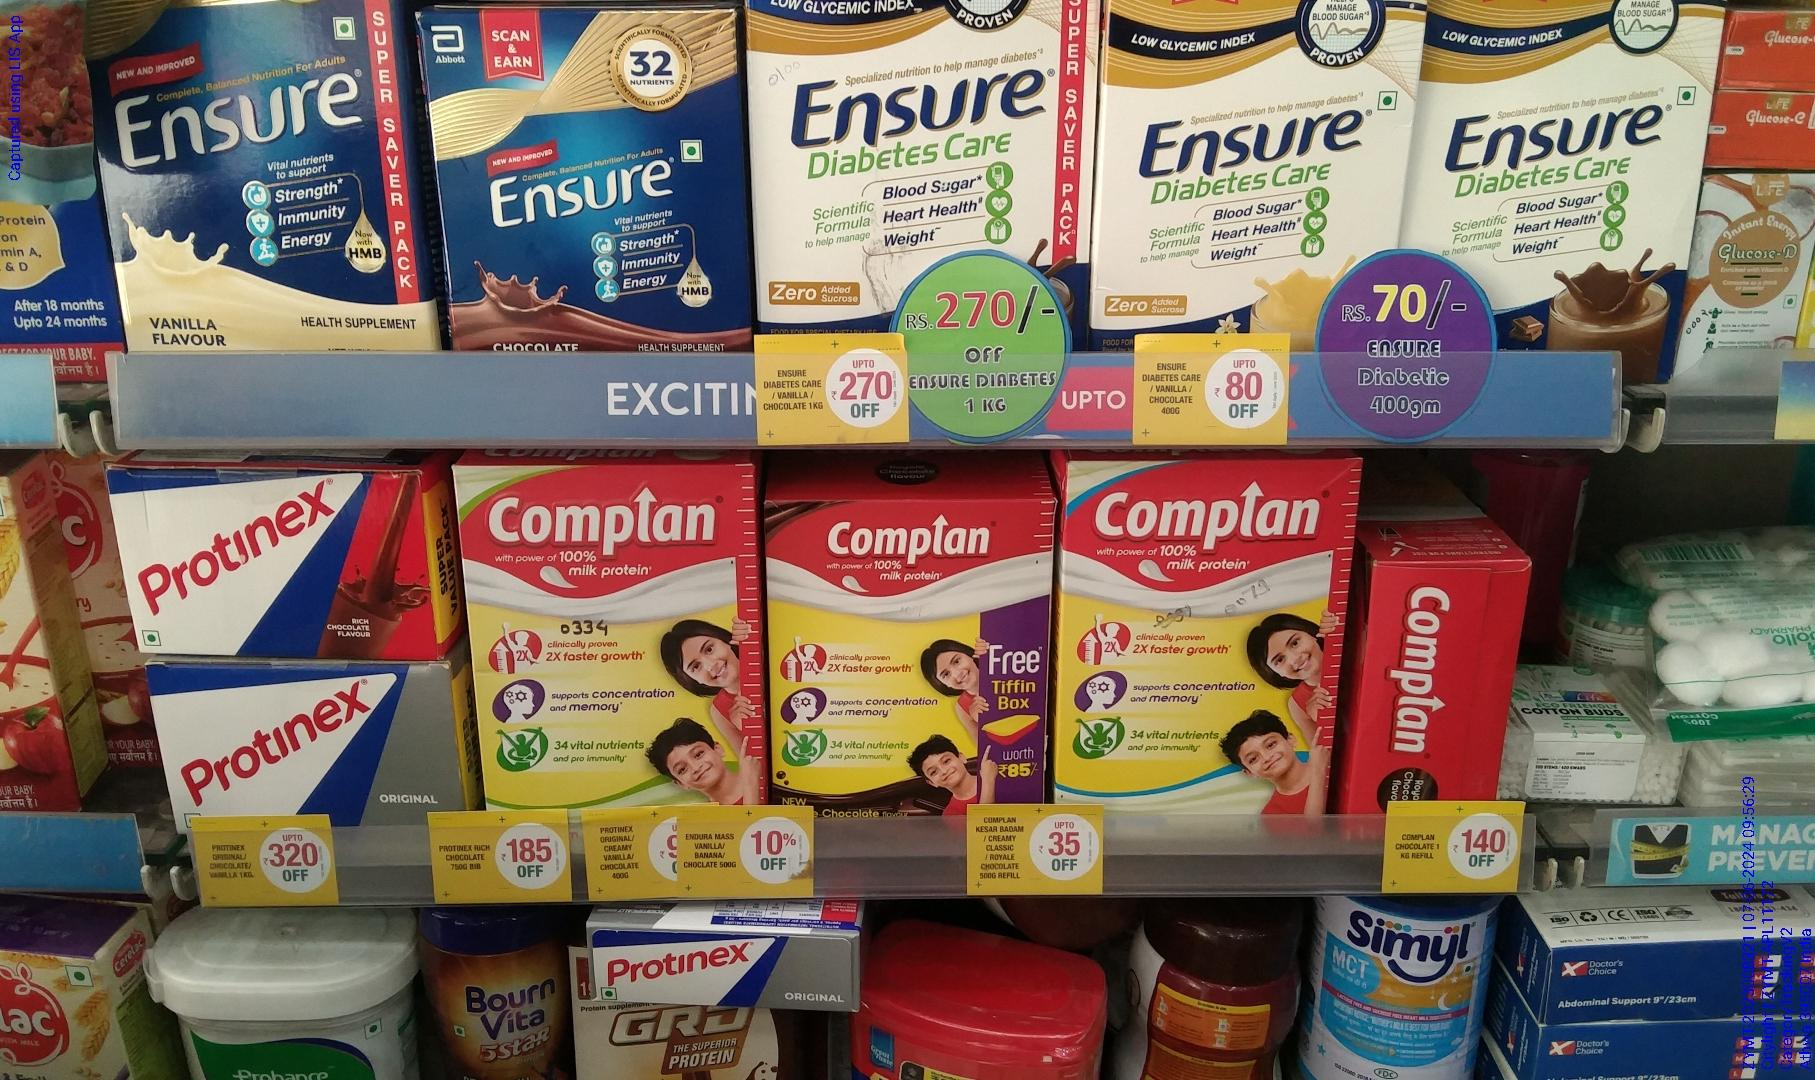COMPLAN_CHOCOLATE_500_GMS_PACK: (767, 499, 1040, 837)
COMPLAN_CREAMY_CLASSIC_500_G_PACK: (1062, 460, 1341, 838)
COMPLAN_PISTA_BADAM_500_GMS_PACK: (478, 465, 755, 807)
ENSURE_VANILLA_400_G_PACK: (98, 3, 404, 355)
